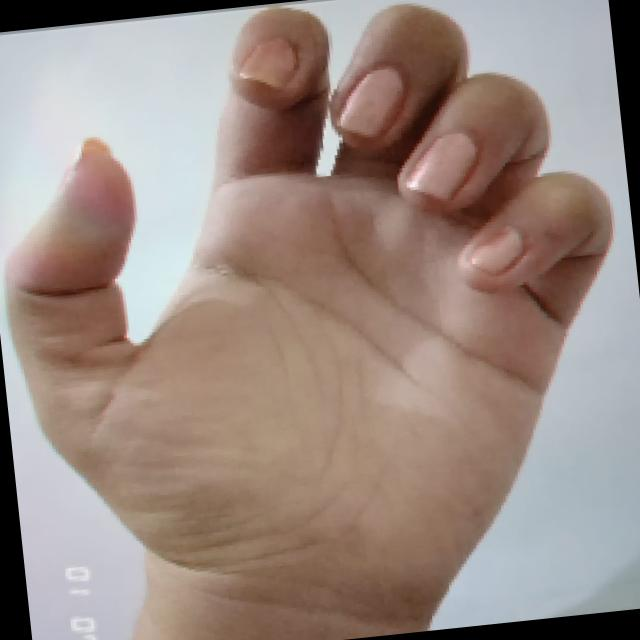Nail: (333, 66, 402, 138), (406, 133, 477, 198), (239, 37, 297, 88), (469, 226, 523, 274)
